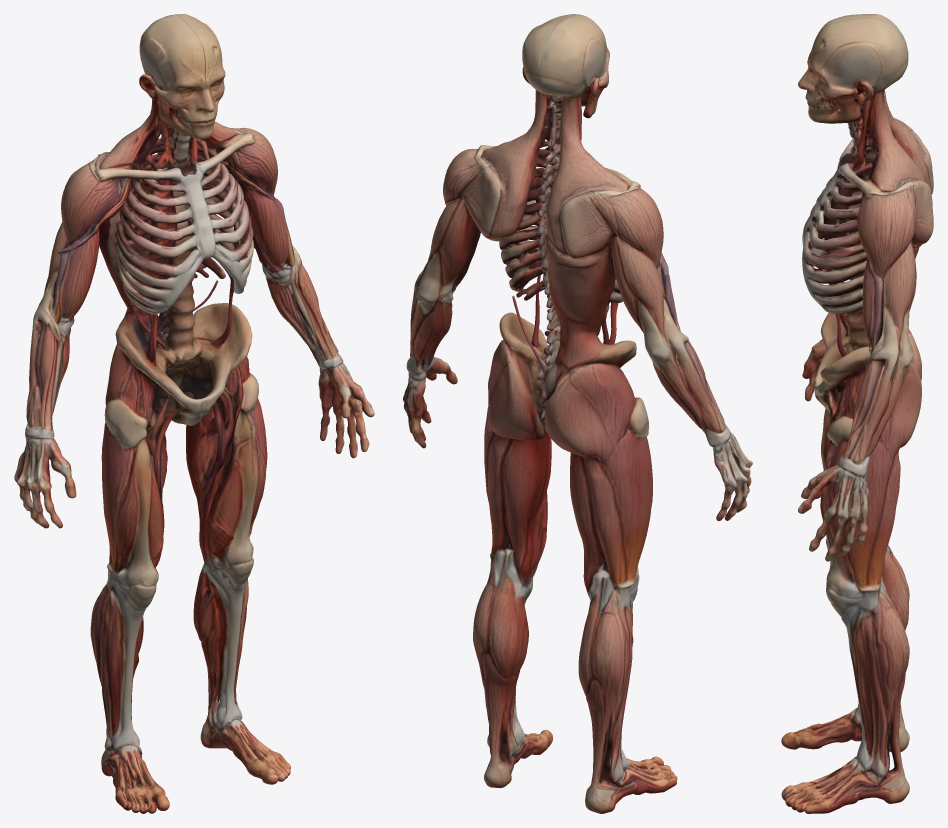
The model's file is anatomy.glb.
3 renders of one model, left to right at view 1: azimuth 30°, elevation 25°; view 2: azimuth 150°, elevation 25°; view 3: azimuth 270°, elevation 25°, orthographic.
Visible parts, largest first — view 1: tripo_node_e2e31b4e-53fd-4b12-a720-becd35d240bf; view 2: tripo_node_e2e31b4e-53fd-4b12-a720-becd35d240bf; view 3: tripo_node_e2e31b4e-53fd-4b12-a720-becd35d240bf.
Part boxes in pixels (x1,y1,x2,y2): tripo_node_e2e31b4e-53fd-4b12-a720-becd35d240bf: (14,14,374,813); tripo_node_e2e31b4e-53fd-4b12-a720-becd35d240bf: (403,14,752,813); tripo_node_e2e31b4e-53fd-4b12-a720-becd35d240bf: (781,14,933,813).
Size of the model in its own units: 0.4702 by 0.9999 by 0.1817.
Materials: 1 (1 with a texture image).
